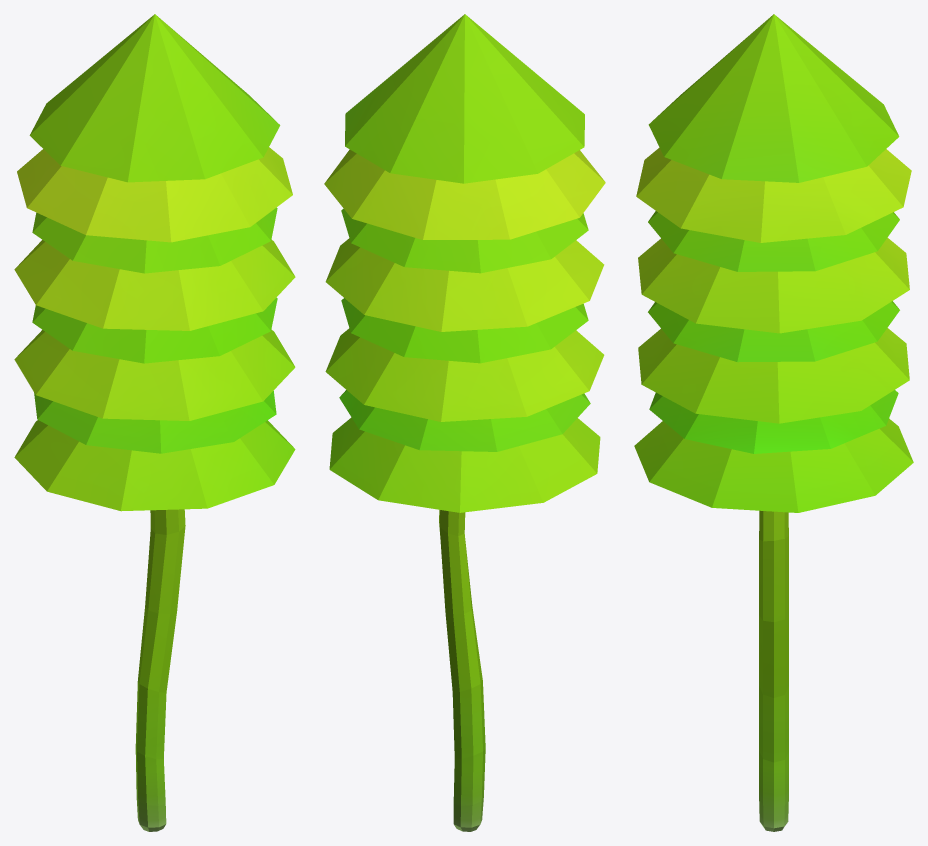
Rendered from Tree_8.fbx.
The picture shows the model from 3 angles, left to right: view 1: azimuth 30°, elevation 25°; view 2: azimuth 150°, elevation 25°; view 3: azimuth 270°, elevation 25°; orthographic projection.
Parts seen in each view (by area): view 1: Tree_8; view 2: Tree_8; view 3: Tree_8.
Boxes of the visible parts, x1,y1,x2,y2 form: Tree_8: (14,14,295,831); Tree_8: (324,14,605,831); Tree_8: (634,14,913,831).
Bounding box in the file's own units: 93.64 × 299 × 92.78.
1 material, 1 textured.
